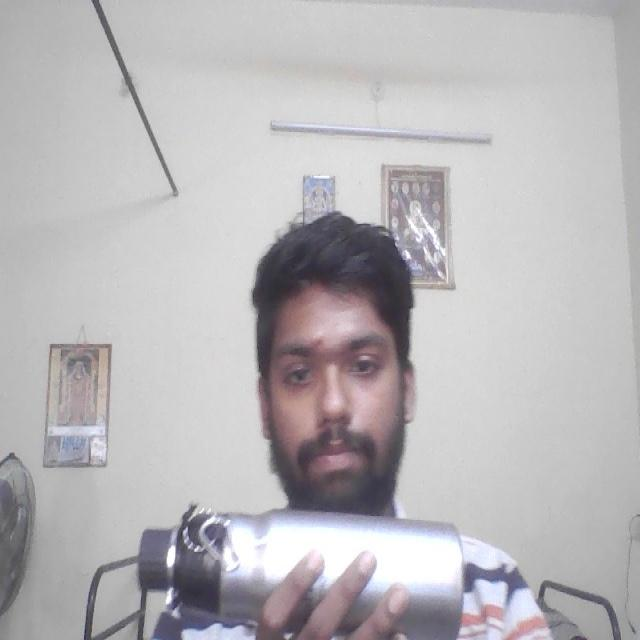Drinking: (139, 504, 475, 624)
